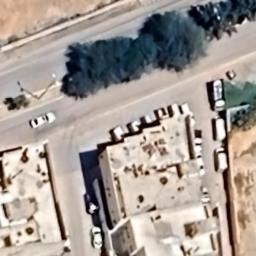SUV: (214, 146, 230, 174)
sedan: (28, 110, 58, 131), (90, 224, 106, 250)
